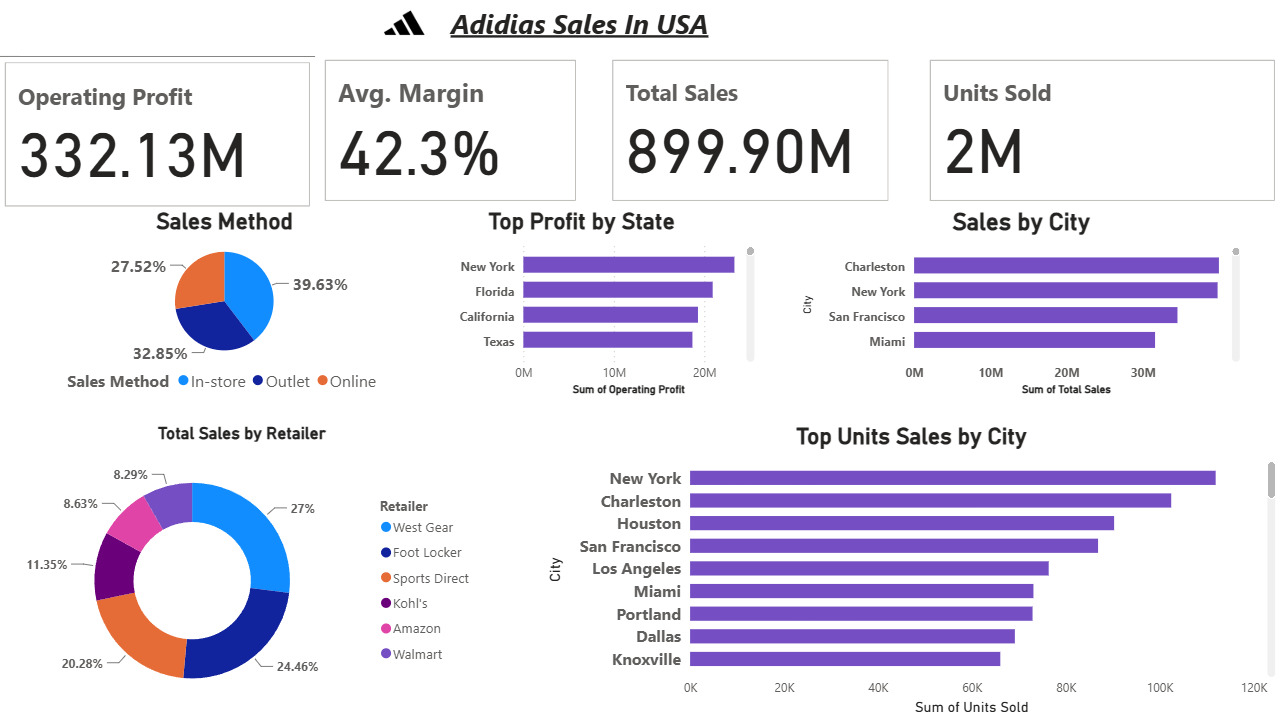

Layout of this report page (visuals, bound fields, positions):
{"tool":"powerbi","page":{"name":"Adidas Sales In USA","canvas":[1280,720],"ordinal":0},"visuals":[{"type":"cardVisual","fields":{"Data":["Sum(Adidas data.Operating Profit)"]},"box":[0,51.4,315.6,159.9],"z":0},{"type":"cardVisual","fields":{"Data":["Avg(Adidas data.Operating Margin)"]},"box":[319.7,55.6,261.3,151.5],"z":1},{"type":"cardVisual","fields":{"Data":["Sum(Adidas data.Total Sales)"]},"box":[607.5,55.6,286.4,151.5],"z":3},{"type":"cardVisual","fields":{"Data":["Sum(Adidas data.Units Sold)"]},"box":[924.4,55.6,355.9,151.5],"z":4},{"type":"donutChart","title":" Sales Method","fields":{"Category":["Adidas data.Sales Method"],"Y":["Sum(Adidas data.Total Sales)"]},"box":[0,207.1,449,193.2],"z":5},{"type":"barChart","title":"Top Profit by State","fields":{"Category":["Adidas data.State"],"Y":["Sum(Adidas data.Operating Profit)"]},"box":[403.1,207.1,355.9,193.2],"z":6},{"type":"barChart","title":" Sales by City","fields":{"Y":["Sum(Adidas data.Total Sales)"],"Category":["Adidas data.City"]},"box":[797.9,207.1,447.6,193.2],"z":7},{"type":"donutChart","title":"Total Sales by Retailer","fields":{"Category":["Adidas data.Retailer"],"Y":["Sum(Adidas data.Total Sales)"]},"box":[0,422.6,483.8,297.5],"z":8},{"type":"barChart","title":"Top Units Sales by City","fields":{"Y":["Sum(Adidas data.Units Sold)"],"Category":["Adidas data.City"]},"box":[542.1,422.6,738.1,297.5],"z":9},{"type":"textbox","box":[19.5,0,1119,55.6],"z":10},{"type":"image","box":[340.6,0,126.5,51.4],"z":11}]}

Visuals, with their boxes in screenshot pixels (x1, y1, x2, y2), scaled from the page's 1280x720 canvas onto the 1280x720 screenshot:
cardVisual - Sum(Adidas data.Operating Profit): [0, 51, 316, 211]
cardVisual - Avg(Adidas data.Operating Margin): [320, 56, 581, 207]
cardVisual - Sum(Adidas data.Total Sales): [608, 56, 894, 207]
cardVisual - Sum(Adidas data.Units Sold): [924, 56, 1279, 207]
" Sales Method" donutChart: [0, 207, 449, 400]
"Top Profit by State" barChart: [403, 207, 759, 400]
" Sales by City" barChart: [798, 207, 1246, 400]
"Total Sales by Retailer" donutChart: [0, 423, 484, 719]
"Top Units Sales by City" barChart: [542, 423, 1279, 719]
textbox: [20, 0, 1138, 56]
image: [341, 0, 467, 51]
